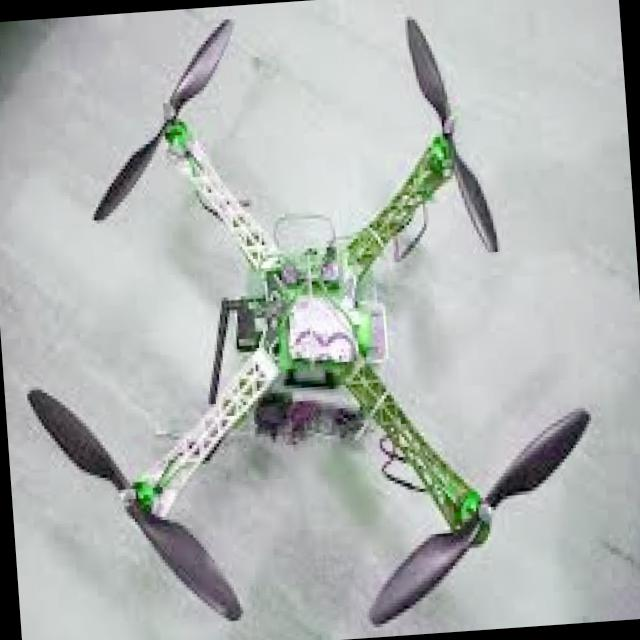drone: (30, 6, 586, 640)
